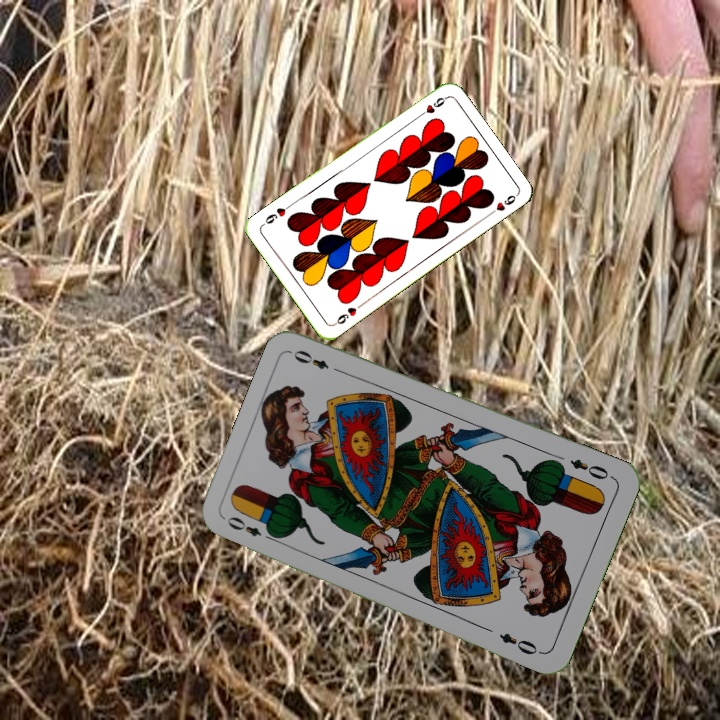EO: (223, 512, 279, 544), (566, 454, 616, 482)
H9: (329, 300, 365, 328), (413, 93, 449, 121)
